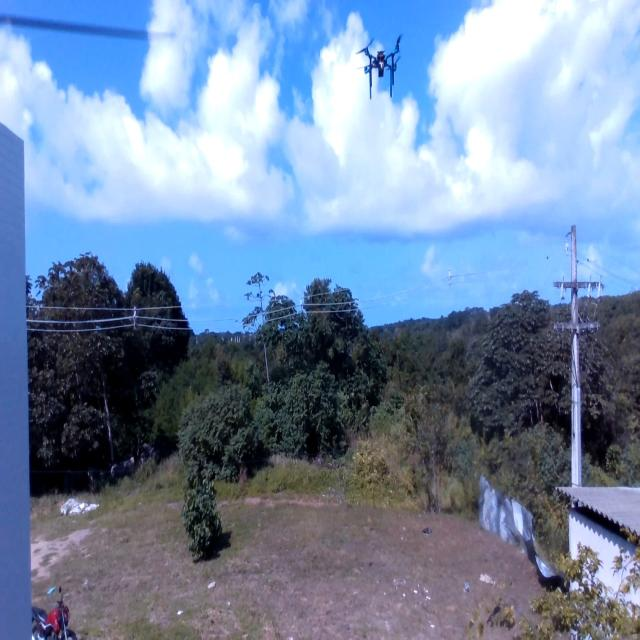-uav-: (349, 19, 408, 111)
